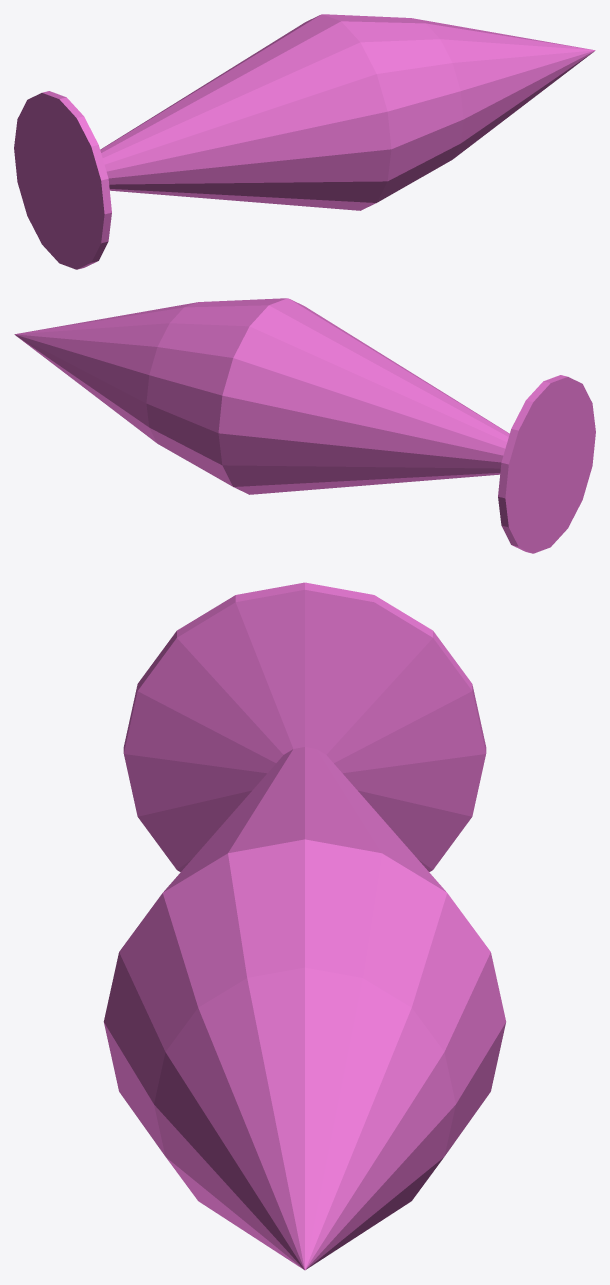
Rendered from bomb05.fbx.
The picture shows the model from 3 angles, top to bottom: view 1: azimuth 30°, elevation 25°; view 2: azimuth 150°, elevation 25°; view 3: azimuth 270°, elevation 25°; orthographic projection. The views are drawn at different scales.
Visible parts, largest first — view 1: Cylinder; view 2: Cylinder; view 3: Cylinder.
Boxes of the visible parts, x1,y1,x2,y2 form: Cylinder: [14, 14, 595, 269]; Cylinder: [14, 298, 595, 553]; Cylinder: [103, 582, 506, 1270].
Size of the model in its own units: 166 by 53.82 by 53.82.
